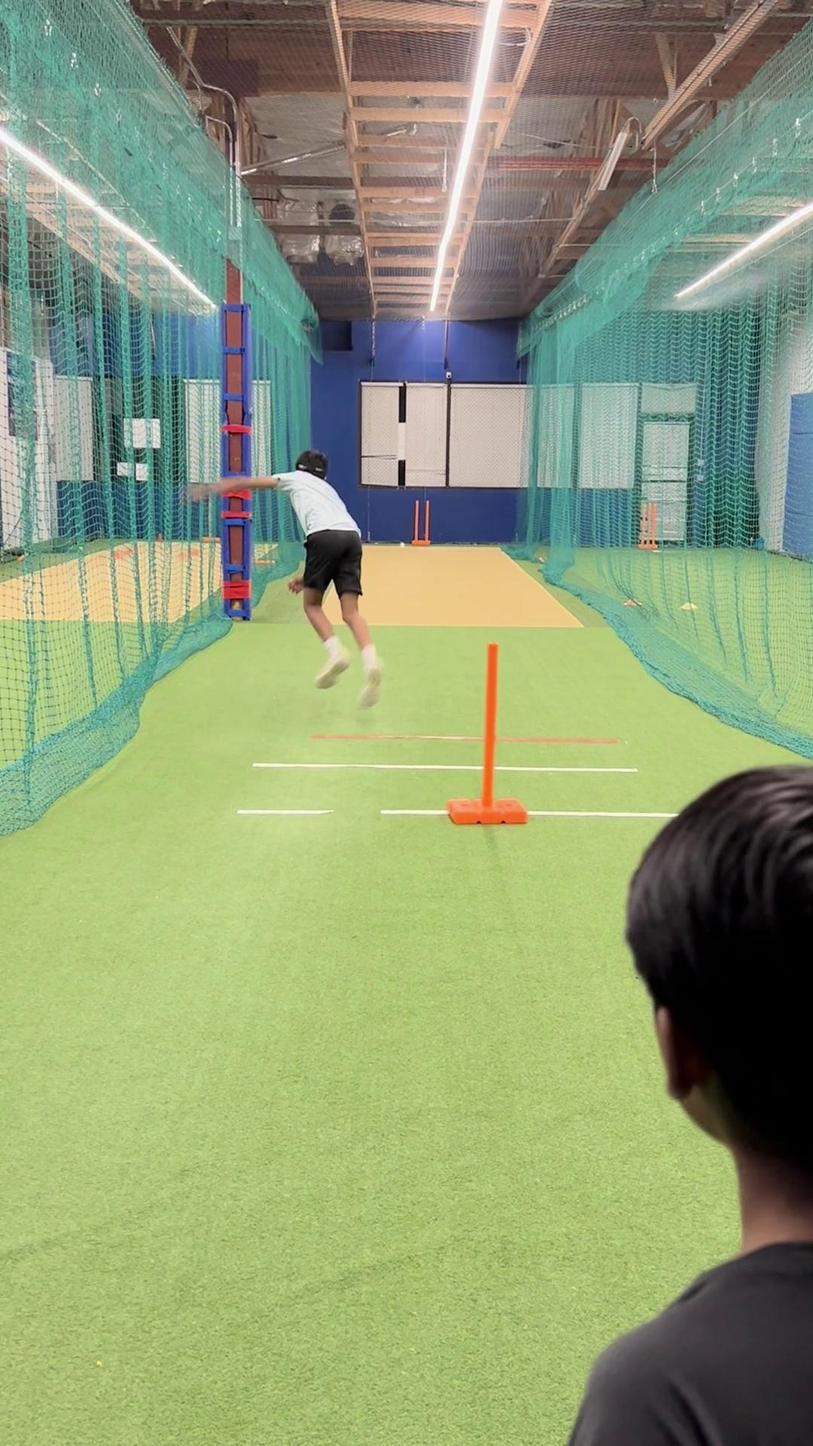ball: (397, 538, 408, 549)
